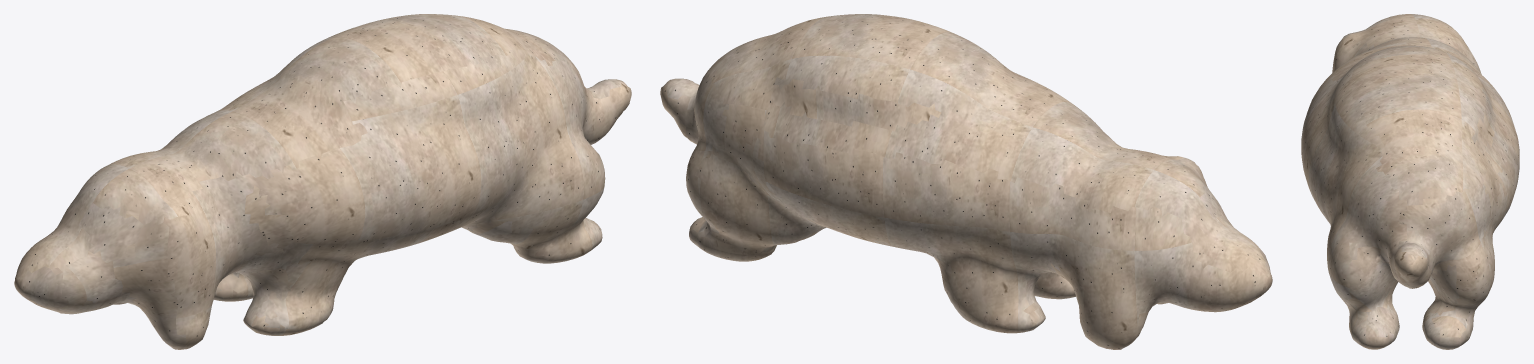
The model's file is Hole_10_Dog.glb.
The picture shows the model from 3 angles, left to right: view 1: azimuth 30°, elevation 25°; view 2: azimuth 150°, elevation 25°; view 3: azimuth 270°, elevation 25°; orthographic projection. The views are drawn at different scales.
Parts seen in each view (by area): view 1: lying_dog_statue; view 2: lying_dog_statue; view 3: lying_dog_statue.
Boxes of the visible parts, box(x1,y1,x2,y2) form: lying_dog_statue: box(14, 14, 631, 349); lying_dog_statue: box(660, 14, 1272, 349); lying_dog_statue: box(1301, 14, 1519, 349).
Bounding box in the file's own units: 1.35 × 0.5274 × 0.4775.
Materials: 1 (1 with a texture image).
